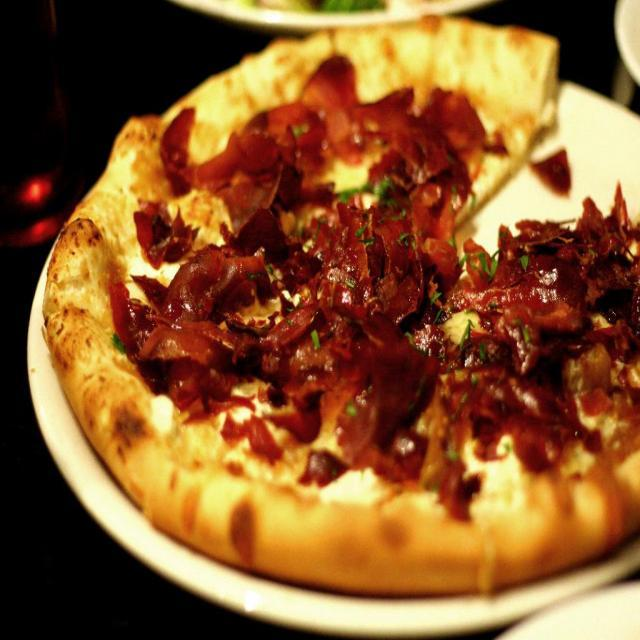Pizza: (50, 27, 640, 608)
